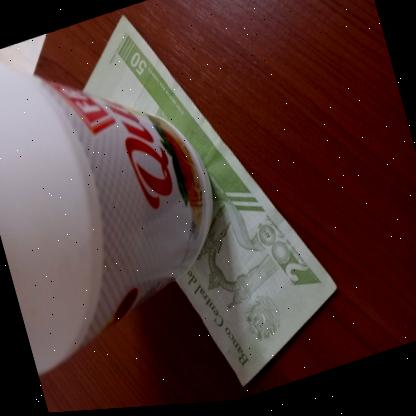vef_back: (63, 0, 354, 413)
